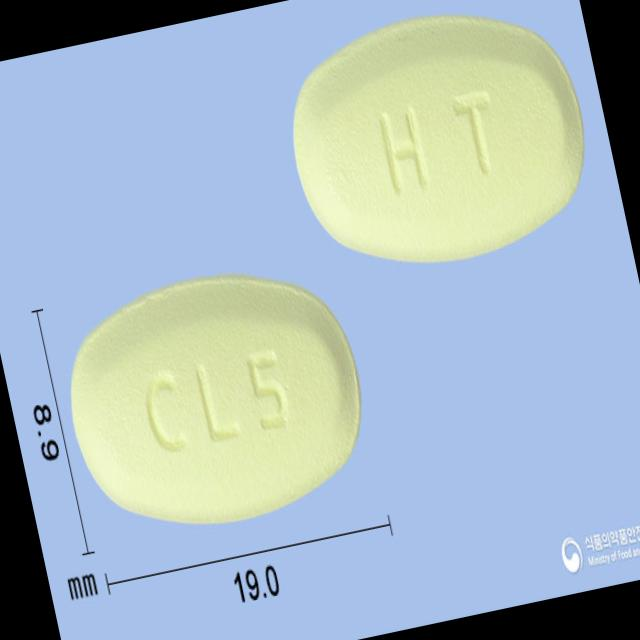Clathrocin: (48, 245, 386, 550), (267, 0, 608, 290)
